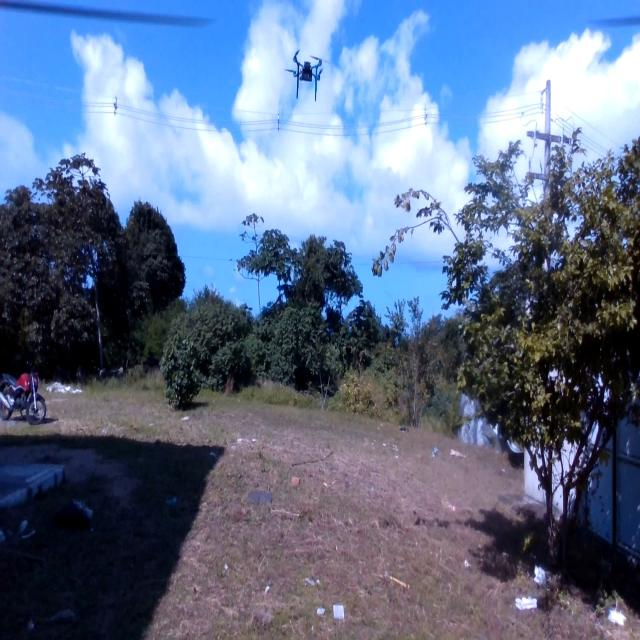-uav-: (281, 34, 329, 123)
